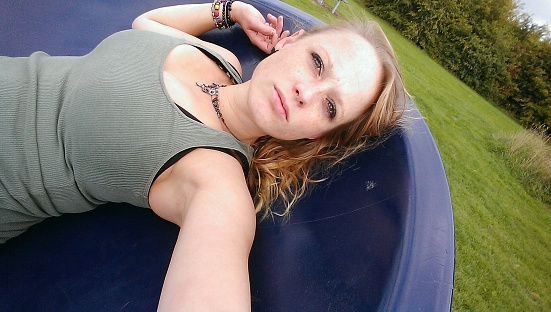deitado: (101, 0, 478, 312)
